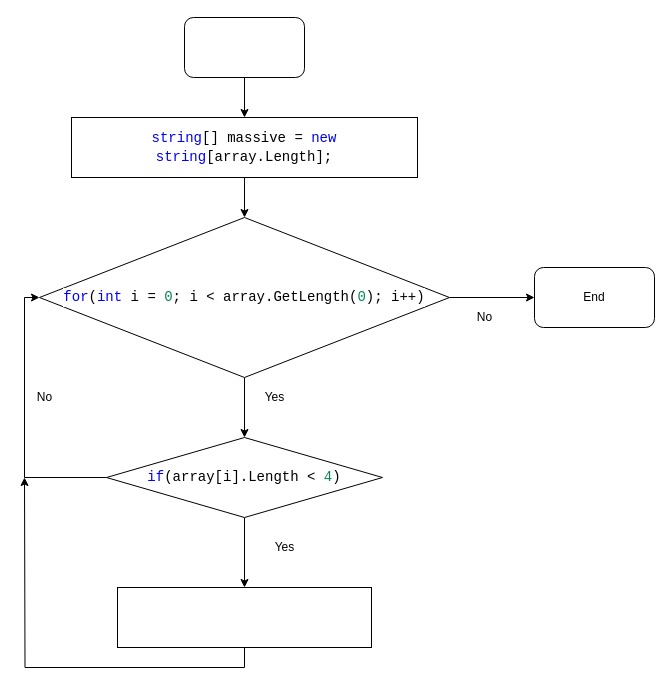
Some shapes in this 672 by 693 pixel diagram are drawn without their labels. The shapes that lost their labels are listed below. From the top down, each one's centre as x and y in pixels, then its label:
(244,47): Start
(244,617): massive[i] = array[i]; Console.Write(massive[i] + " " );
